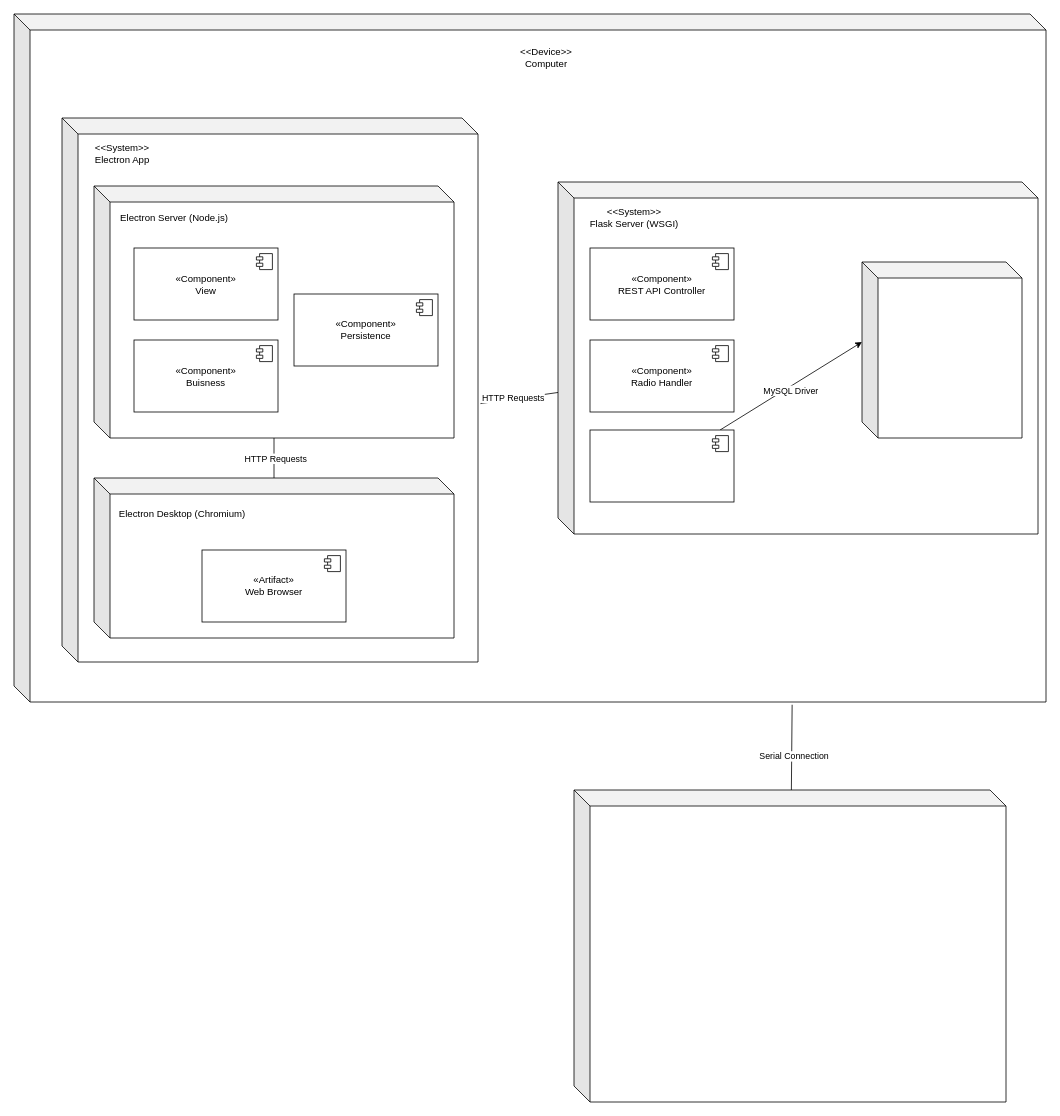
This 1060x1116 diagram has some shape labels left out. The box of each missing label's shape, as (x1, y1, x2, y2) in pixels:
<<Device>> Radio Reciever: (573, 789, 1006, 1102)
«Component» Data Parse Handler: (589, 429, 734, 502)
